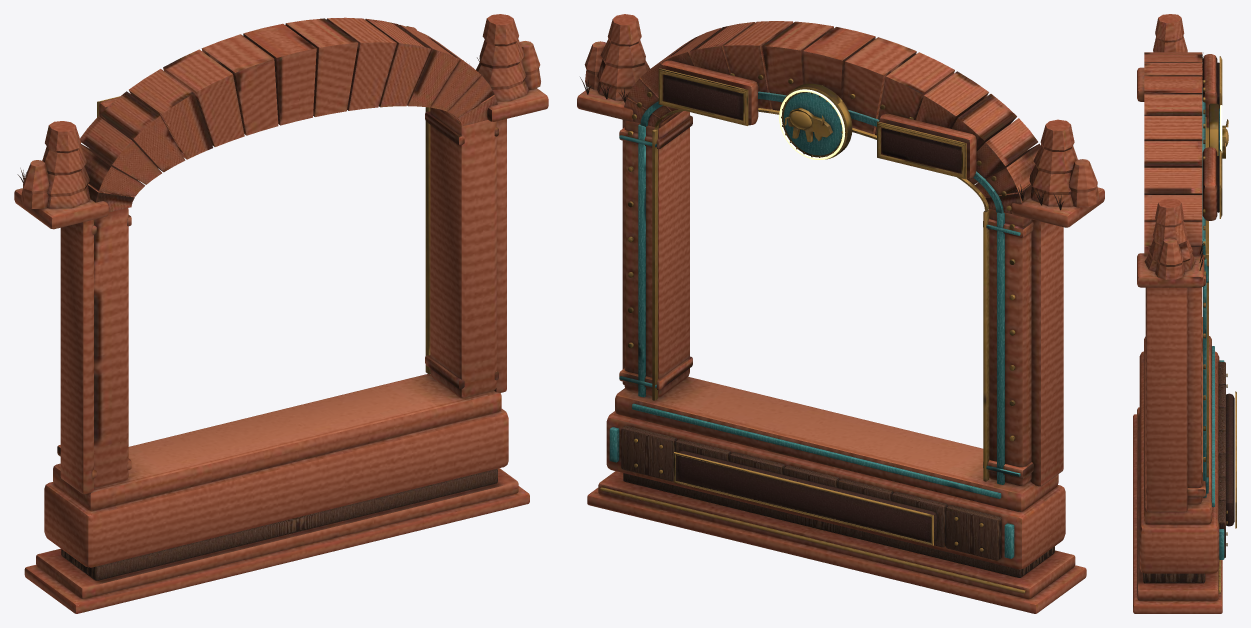
The picture shows the model from 3 angles, left to right: view 1: azimuth 30°, elevation 25°; view 2: azimuth 150°, elevation 25°; view 3: azimuth 270°, elevation 25°; orthographic projection. The views are drawn at different scales.
Parts seen in each view (by area): view 1: Red_prairie_sandstone, Dark_weathered_walnut_planks, Hammered_ancient_gold; view 2: Red_prairie_sandstone, Dark_weathered_walnut_planks, Hammered_ancient_gold, Russet_leather_grain, Turquoise_mineral_inlay; view 3: Red_prairie_sandstone, Hammered_ancient_gold, Dark_weathered_walnut_planks, Turquoise_mineral_inlay, Russet_leather_grain.
Part boxes in pixels (box(x1,y1,x2,y2)): Red_prairie_sandstone: box(14, 14, 548, 613); Dark_weathered_walnut_planks: box(17, 57, 497, 580); Hammered_ancient_gold: box(97, 26, 430, 374); Red_prairie_sandstone: box(577, 14, 1104, 613); Dark_weathered_walnut_planks: box(580, 77, 1063, 577); Hammered_ancient_gold: box(600, 68, 1025, 593); Russet_leather_grain: box(663, 74, 961, 541); Turquoise_mineral_inlay: box(609, 91, 1020, 558); Red_prairie_sandstone: box(1133, 14, 1222, 613); Hammered_ancient_gold: box(1203, 56, 1236, 593); Dark_weathered_walnut_planks: box(1143, 54, 1225, 583); Turquoise_mineral_inlay: box(1202, 87, 1224, 559); Russet_leather_grain: box(1217, 62, 1234, 526).
Size of the model in its own units: 10.73 by 10 by 2.17.
Materials: 6 (5 with a texture image).
